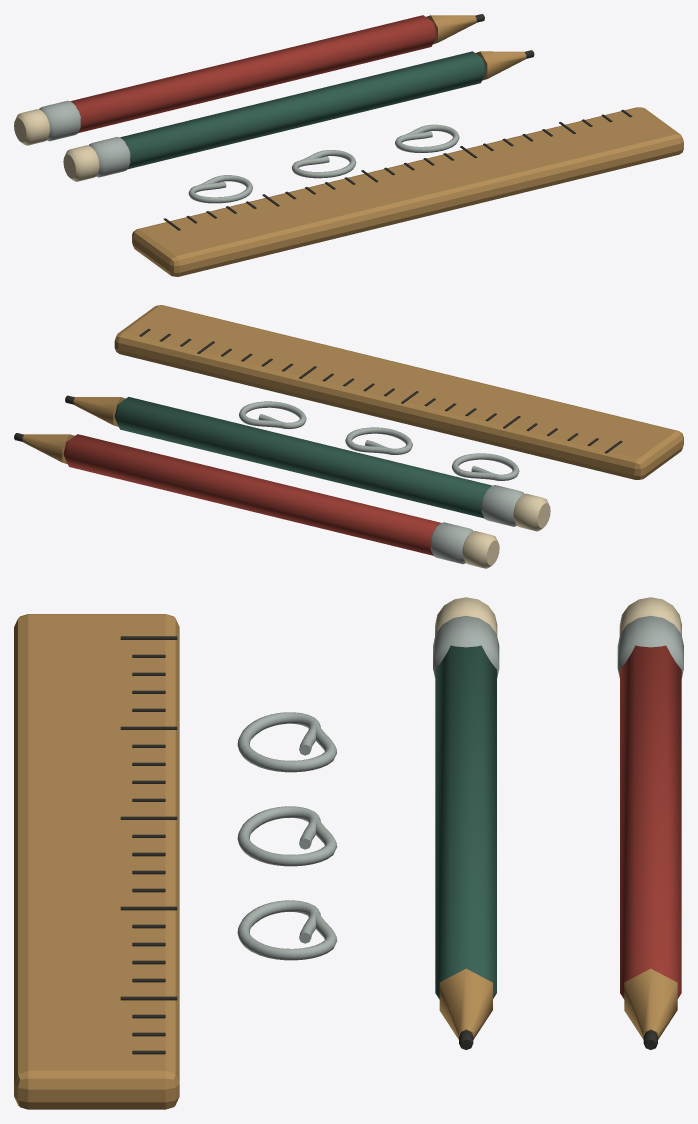
Rendered from StationerySet.fbx.
3 renders of one model, top to bottom at view 1: azimuth 30°, elevation 25°; view 2: azimuth 150°, elevation 25°; view 3: azimuth 270°, elevation 25°, orthographic. The views are drawn at different scales.
Visible parts, largest first — view 1: Wood ruler, Hexagonal pencil, Hexagonal pencil.001, Ferrule, Ferrule.001, Eraser.001, Eraser, Paper clip, Paper clip.002, Paper clip.001, Sharpened wood.001, Sharpened wood; view 2: Wood ruler, Hexagonal pencil, Hexagonal pencil.001, Ferrule, Ferrule.001, Eraser.001, Eraser, Paper clip, Paper clip.001, Paper clip.002, Sharpened wood, Sharpened wood.001; view 3: Wood ruler, Hexagonal pencil, Hexagonal pencil.001, Paper clip.001, Paper clip, Paper clip.002, Sharpened wood, Sharpened wood.001, Ferrule.001, Ferrule, Eraser.001, Eraser.
Part boxes in pixels (x1,y1,x2,y2): Wood ruler: [132, 107, 683, 276]; Hexagonal pencil: [70, 15, 436, 132]; Hexagonal pencil.001: [119, 51, 486, 169]; Ferrule: [39, 100, 80, 141]; Ferrule.001: [88, 136, 130, 177]; Eraser.001: [63, 145, 99, 181]; Eraser: [14, 109, 49, 145]; Paper clip: [188, 175, 252, 203]; Paper clip.002: [395, 124, 459, 152]; Paper clip.001: [291, 150, 356, 178]; Sharpened wood.001: [475, 51, 526, 80]; Sharpened wood: [426, 15, 476, 44]; Wood ruler: [114, 305, 683, 479]; Hexagonal pencil: [63, 434, 440, 555]; Hexagonal pencil.001: [114, 397, 492, 518]; Ferrule: [430, 522, 473, 564]; Ferrule.001: [481, 485, 524, 526]; Eraser.001: [513, 493, 550, 531]; Eraser: [462, 531, 499, 568]; Paper clip: [451, 453, 519, 480]; Paper clip.001: [345, 427, 412, 454]; Paper clip.002: [239, 401, 306, 429]; Sharpened wood: [22, 434, 74, 464]; Sharpened wood.001: [73, 397, 125, 426]; Wood ruler: [14, 614, 179, 1109]; Hexagonal pencil: [620, 645, 681, 999]; Hexagonal pencil.001: [435, 645, 496, 999]; Paper clip.001: [237, 806, 337, 866]; Paper clip: [237, 712, 337, 772]; Paper clip.002: [237, 900, 337, 960]; Sharpened wood: [624, 968, 677, 1039]; Sharpened wood.001: [439, 968, 492, 1039]; Ferrule.001: [433, 615, 499, 678]; Ferrule: [617, 615, 683, 678]; Eraser.001: [435, 597, 497, 635]; Eraser: [619, 597, 681, 635].
Bounding box in the file's own units: 0.234 × 0.0165 × 0.1415.
